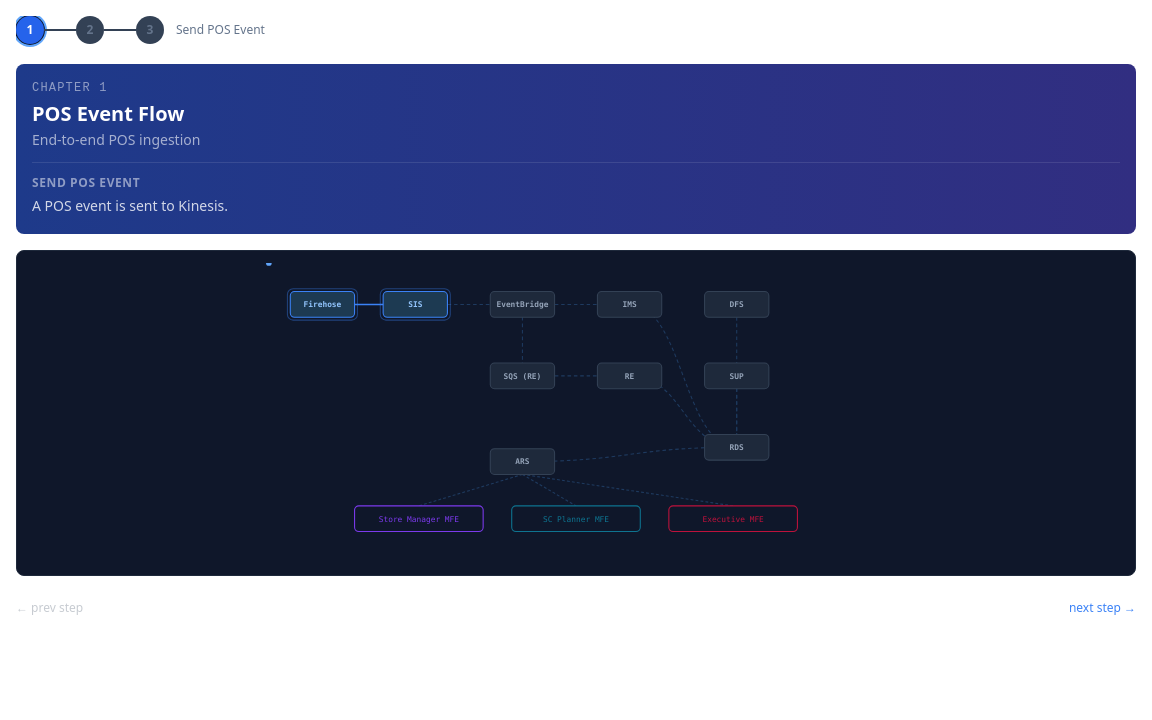
Test case: ChapterView › shows checklist on step with checklist
Click the button "next step →": x=1102, y=608 [1069, 600, 1136, 616]
(page scrolled)
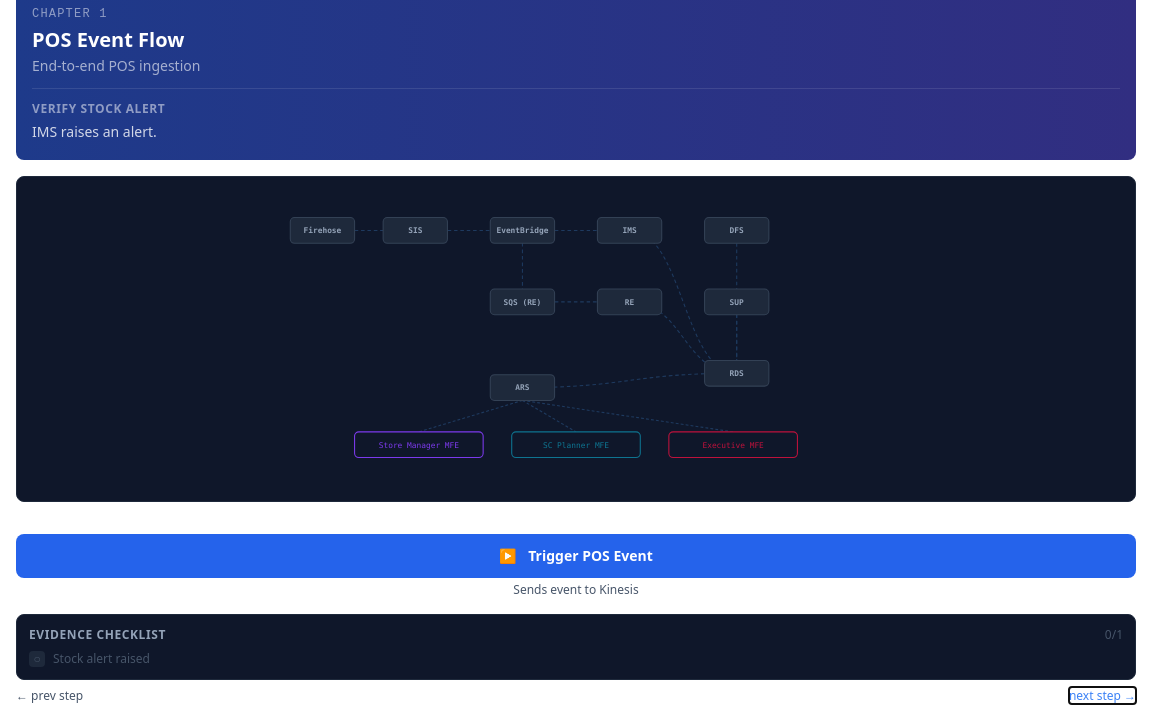
Check: the text "Stock alert raised" is shown, box [53, 651, 150, 667]
